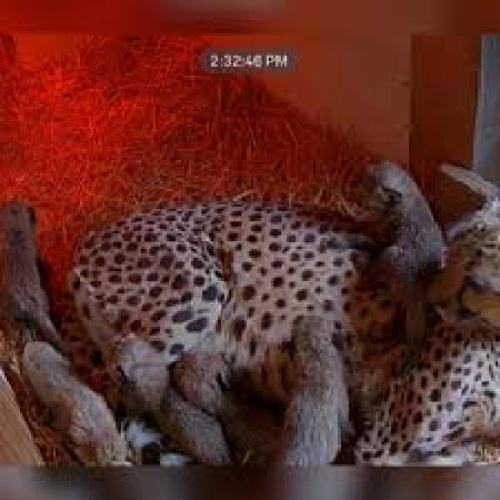cheetah-endangered: (73, 170, 495, 457), (351, 161, 450, 334), (98, 332, 232, 453), (270, 311, 364, 464), (21, 341, 130, 470), (166, 342, 292, 448), (0, 194, 60, 340)
